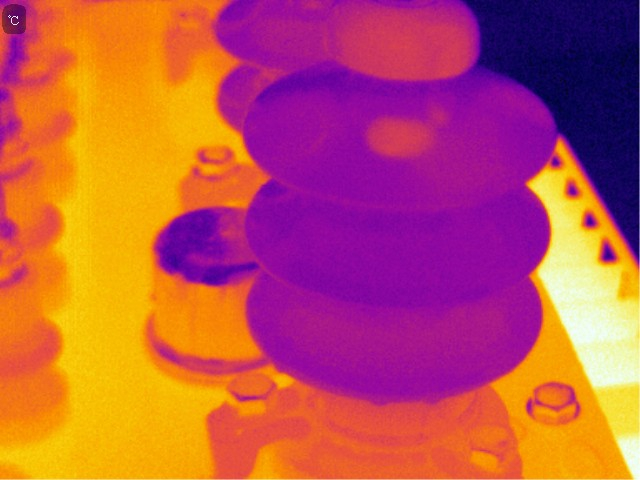Oil: (327, 1, 478, 80), (440, 134, 508, 199), (360, 112, 433, 170), (275, 99, 338, 161), (505, 87, 552, 136), (427, 105, 457, 126), (421, 390, 444, 408), (370, 393, 388, 410)
